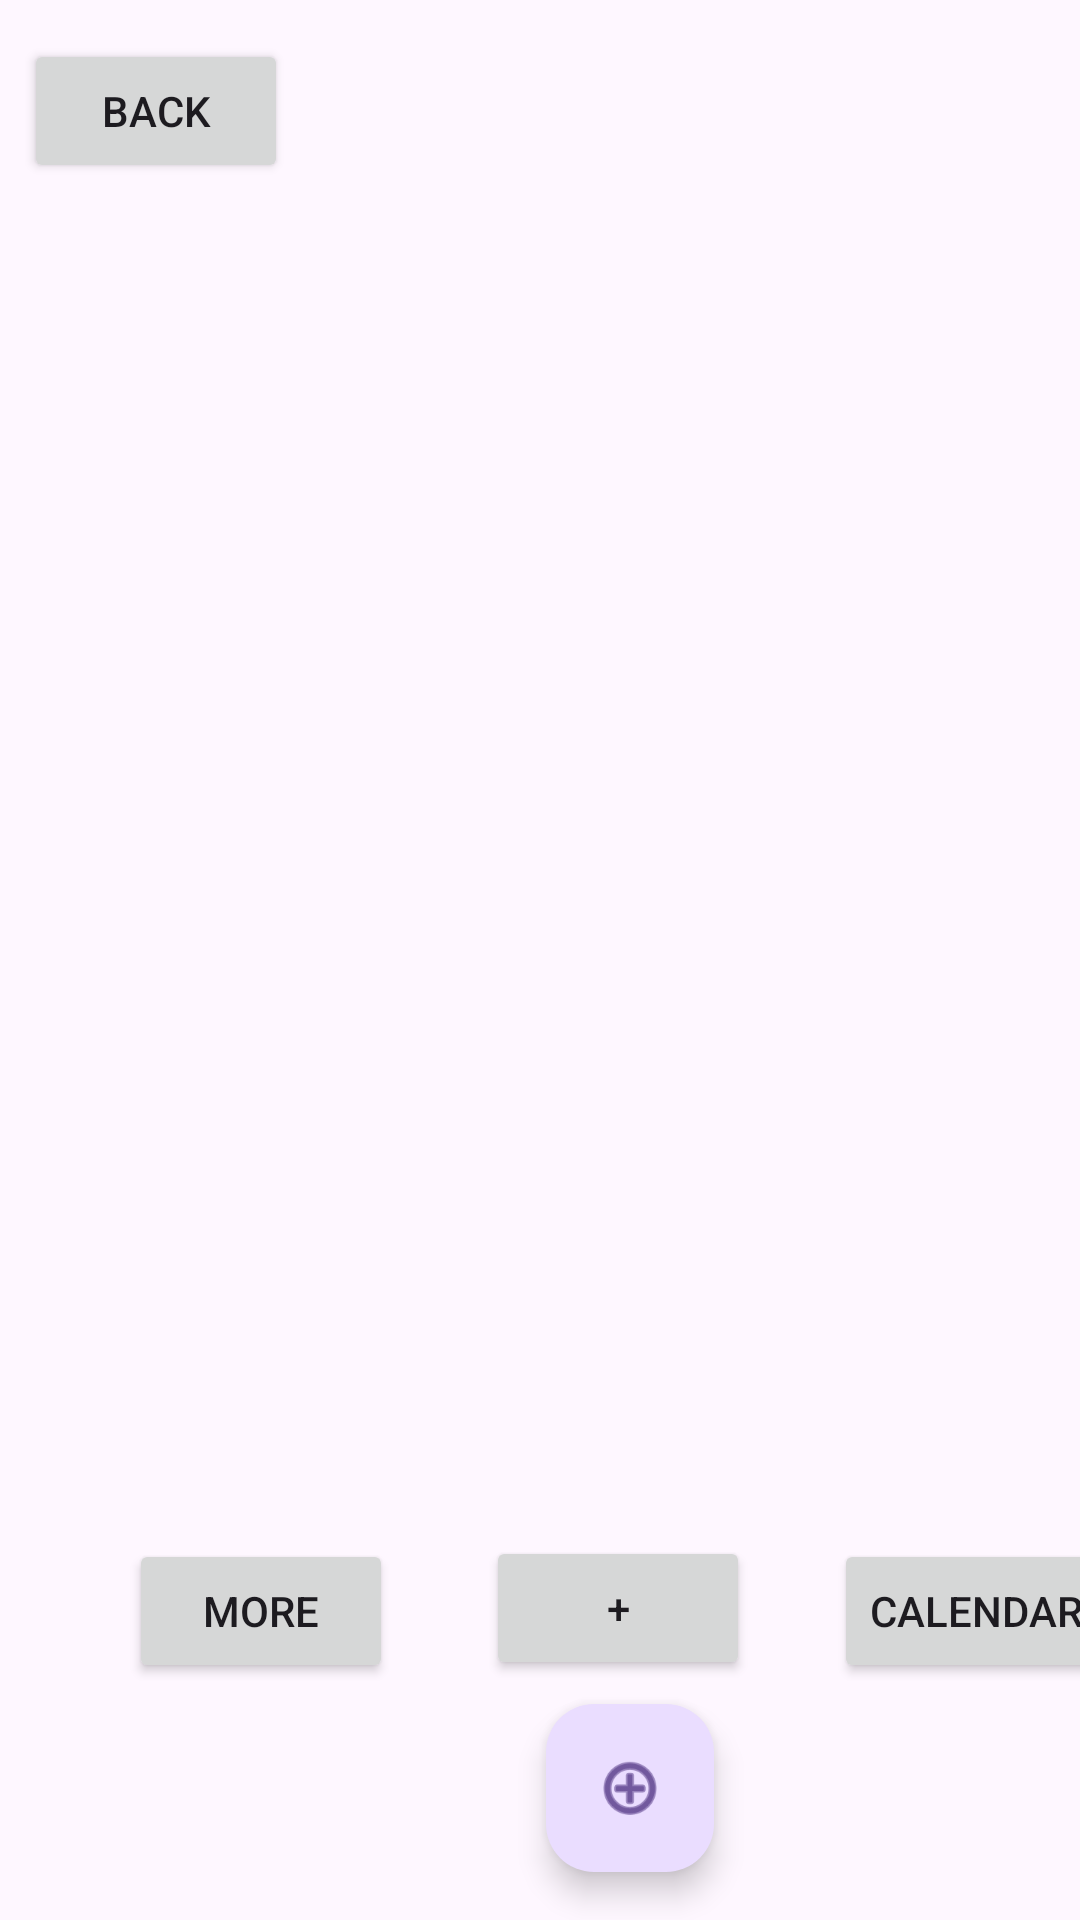

Point at icon controls on the screen. Image size 1080 x 1920, points as point (x, y).
Add new item: point (630, 1788)
